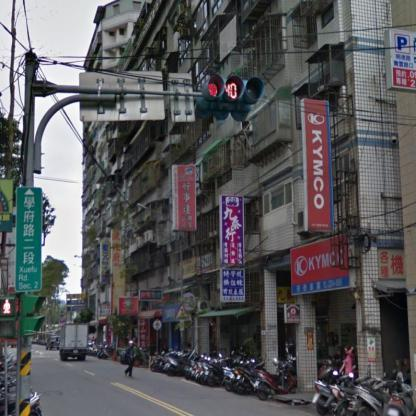Red Light: (199, 73, 264, 107)
